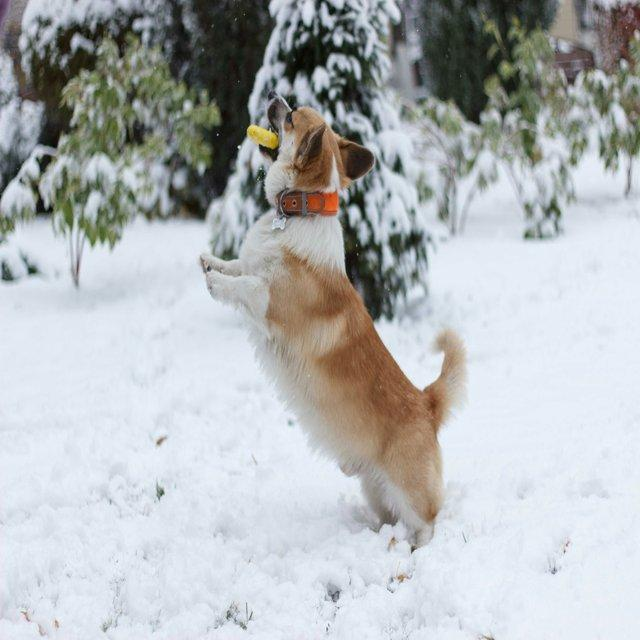corgi: (198, 90, 468, 551)
